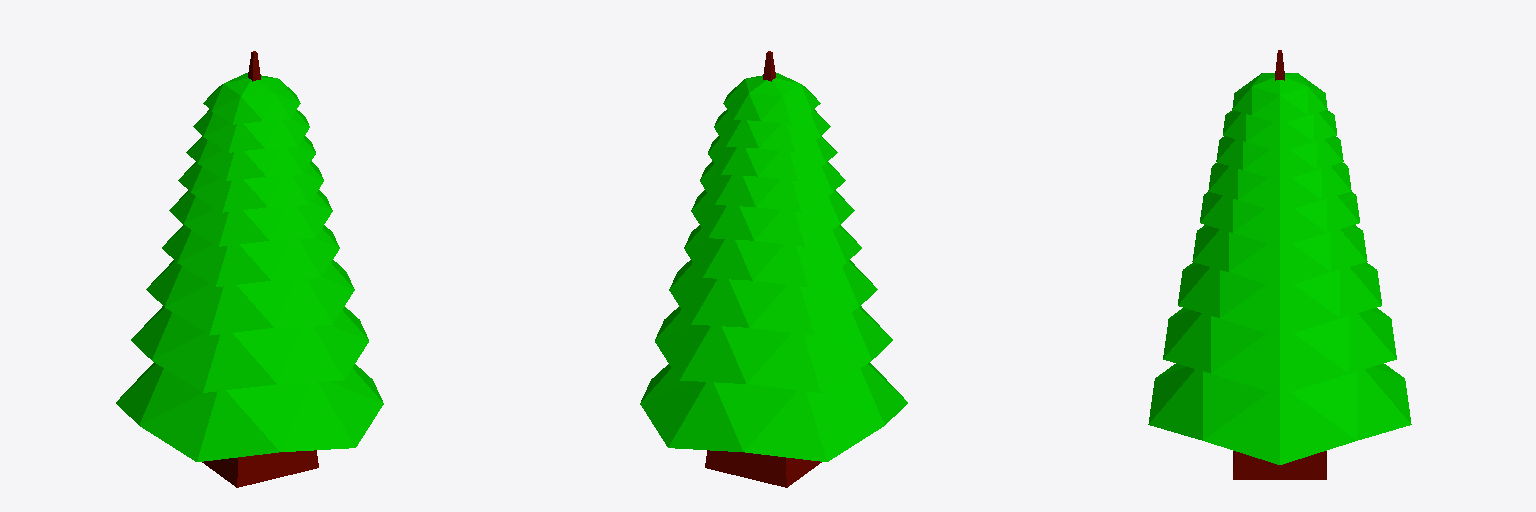
Rendered from PineCone.obj.
3 views of the same model, side by side, from view 1: azimuth 30°, elevation 25°; view 2: azimuth 150°, elevation 25°; view 3: azimuth 270°, elevation 25° (orthographic).
Parts seen in each view (by area): view 1: Icosphere; view 2: Icosphere; view 3: Icosphere.
Boxes of the visible parts, <box> form: Icosphere: <box>116,51,383,487</box>; Icosphere: <box>640,51,907,487</box>; Icosphere: <box>1148,50,1411,479</box>.
Size of the model in its own units: 5.05 by 8.43 by 4.92.